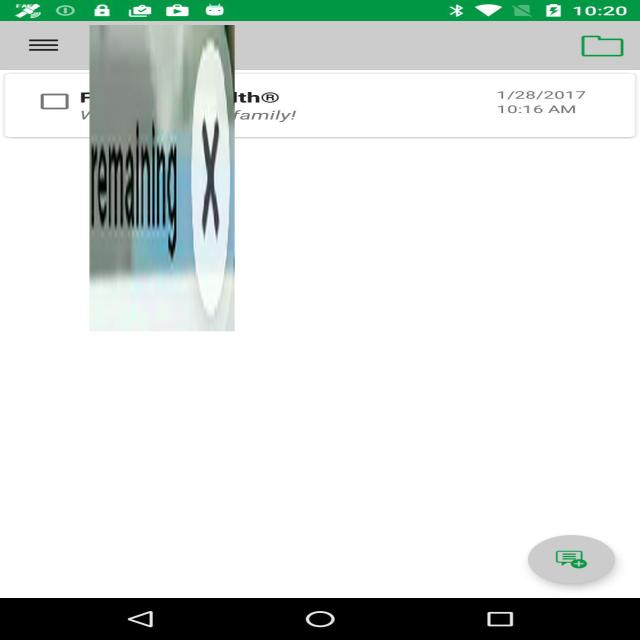misdirection: (90, 25, 234, 331)
